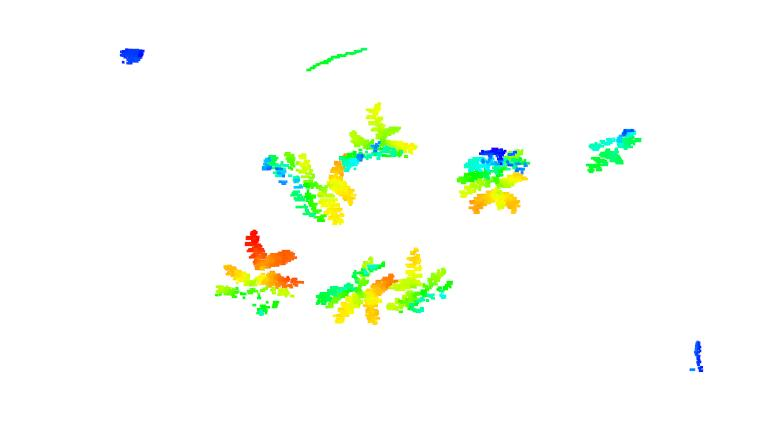chickpea: (211, 230, 303, 320), (259, 143, 354, 226), (456, 143, 536, 214), (338, 101, 420, 170), (313, 255, 392, 325), (388, 246, 452, 316), (579, 125, 645, 176)
